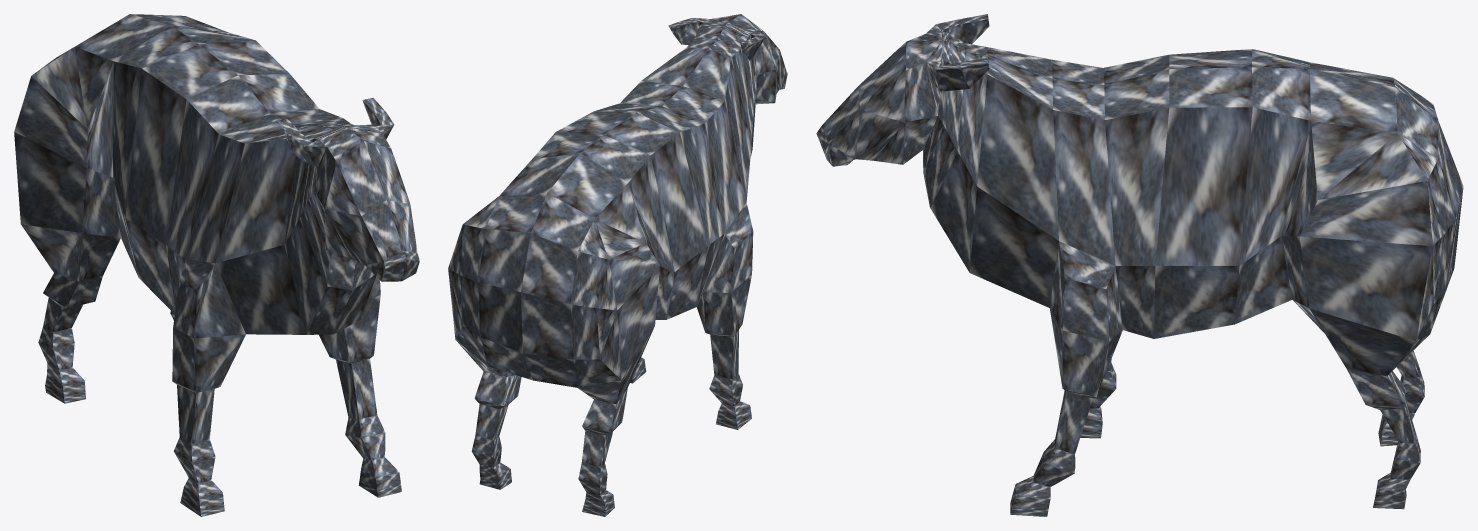
The model's file is SheepIdle_000044.obj.
The picture shows the model from 3 angles, left to right: view 1: azimuth 30°, elevation 25°; view 2: azimuth 150°, elevation 25°; view 3: azimuth 270°, elevation 25°; orthographic projection. The views are drawn at different scales.
Parts seen in each view (by area): view 1: Sheep_Cylinder; view 2: Sheep_Cylinder; view 3: Sheep_Cylinder.
Boxes of the visible parts, x1,y1,x2,y2 form: Sheep_Cylinder: (14, 14, 419, 516); Sheep_Cylinder: (448, 14, 787, 516); Sheep_Cylinder: (816, 14, 1463, 516).
Bounding box in the file's own units: 2.22 × 4.38 × 5.92.
